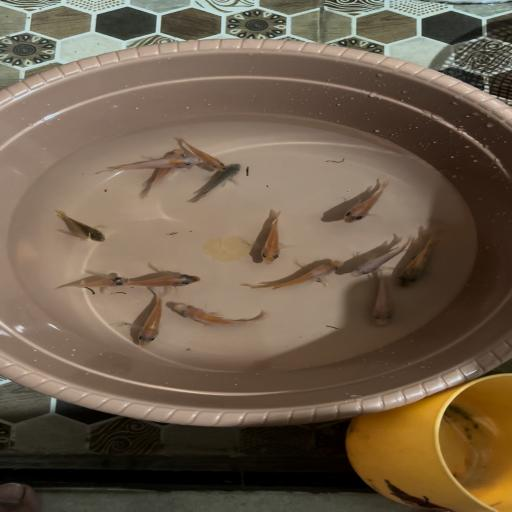nila: (169, 298, 279, 334), (392, 227, 453, 290), (240, 258, 343, 295), (334, 177, 394, 226), (45, 206, 114, 248), (184, 164, 248, 208), (121, 290, 169, 348), (97, 154, 204, 180), (136, 146, 187, 200), (345, 238, 410, 280), (250, 208, 294, 270), (127, 265, 208, 293), (366, 267, 400, 332), (178, 136, 234, 171), (47, 274, 132, 297)
